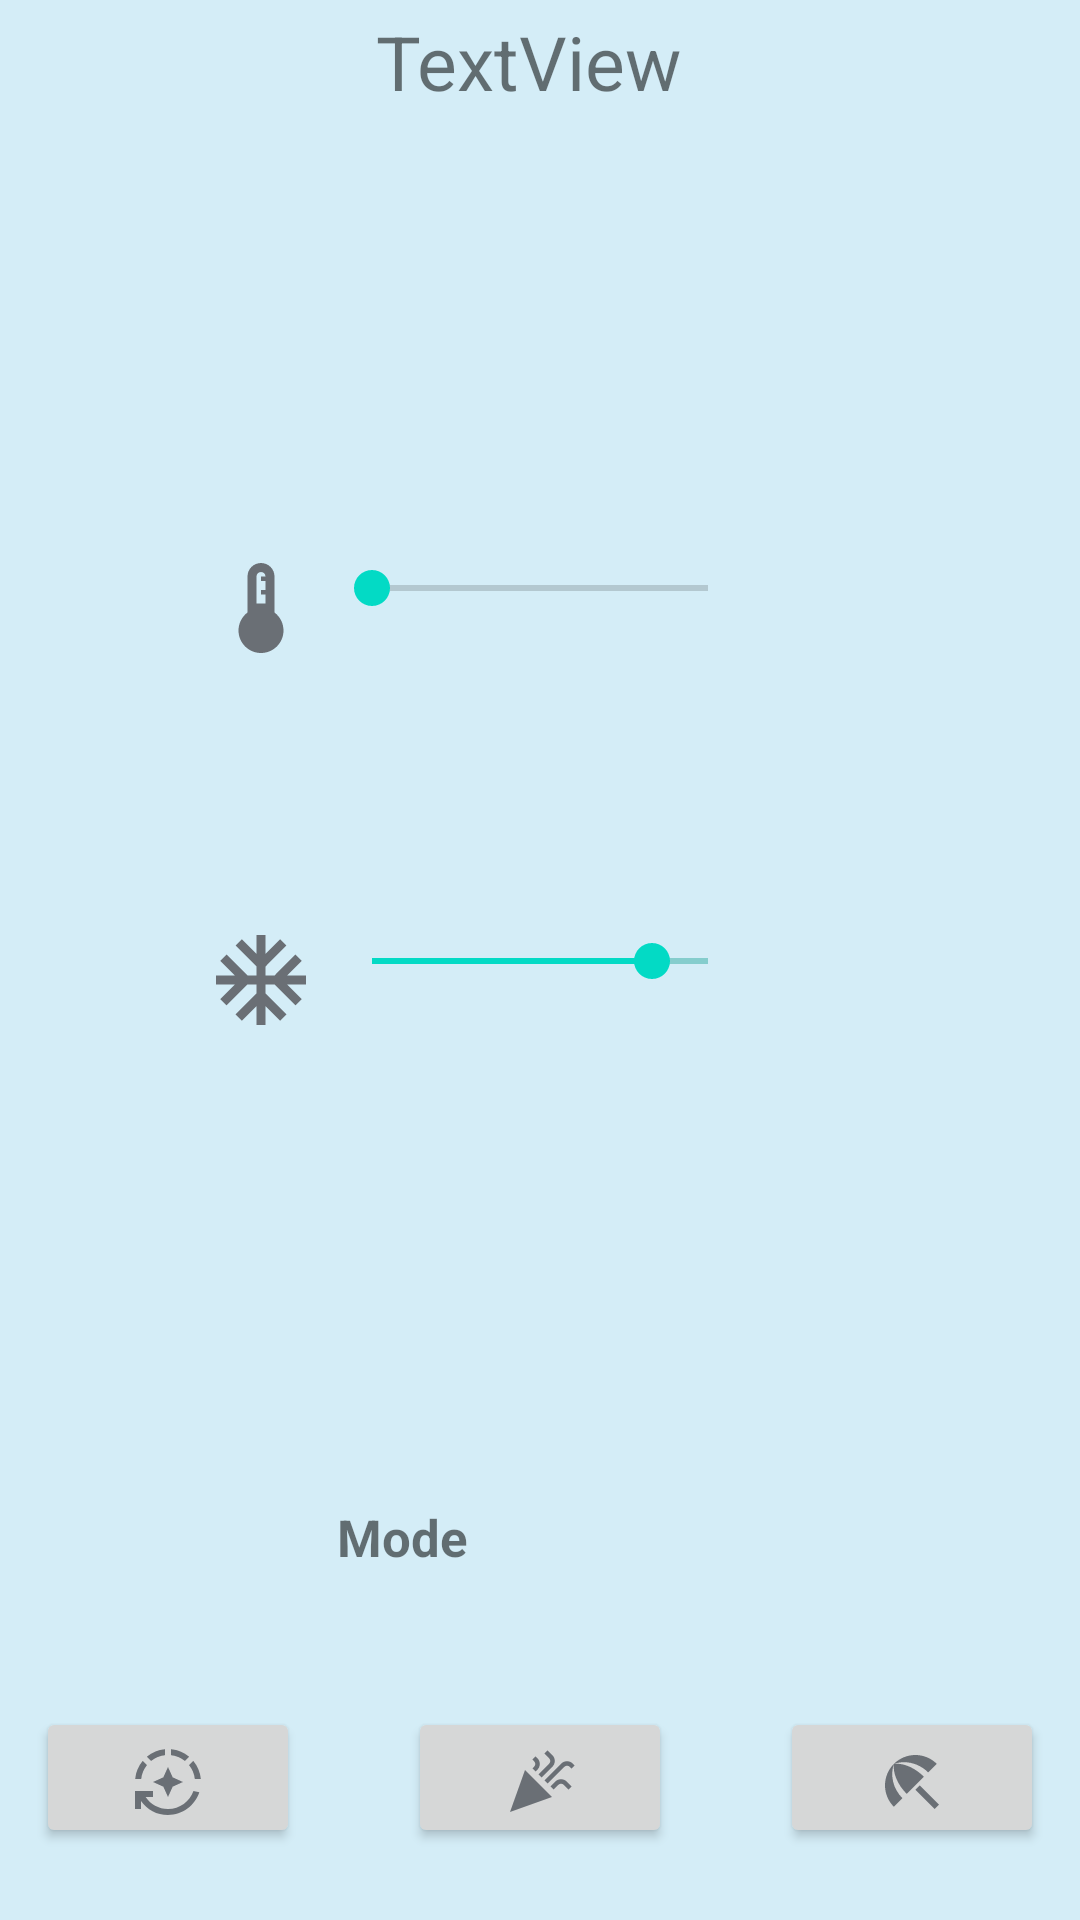

Screen size 1080x1920. Icon name, then its center in pixels as point (x, y):
cold: point (261, 980)
thermostat: point (261, 608)
